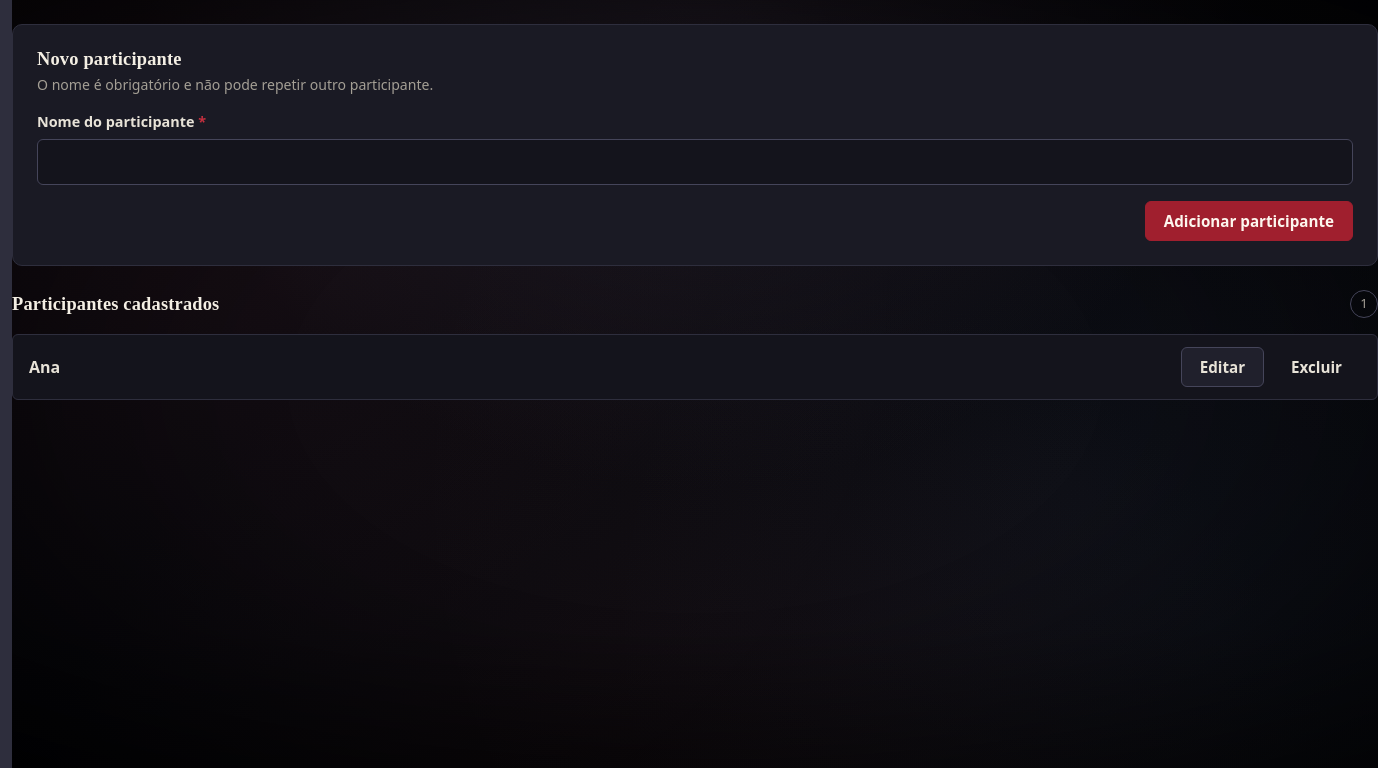
Test: ParticipantsPage (integração) › bloqueia nome duplicado com mensagem explicativa
Expected: the text "Ana" is shown, 29,355 -> 60,379
In the field labelled "Nome do participante *": (695, 162) 37,139 -> 1353,185, type "ana"
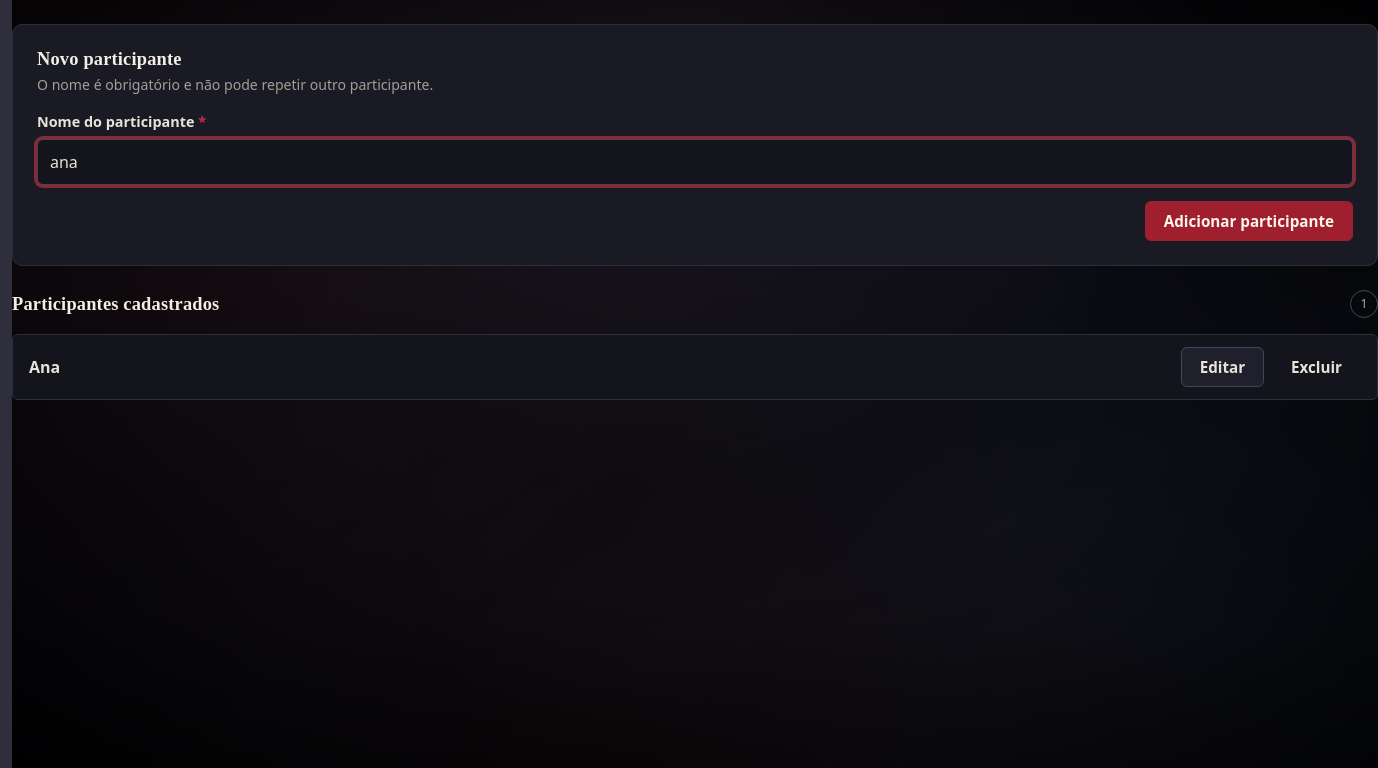
Click the button "Adicionar participante": click(1249, 221) 1145,201 -> 1353,241
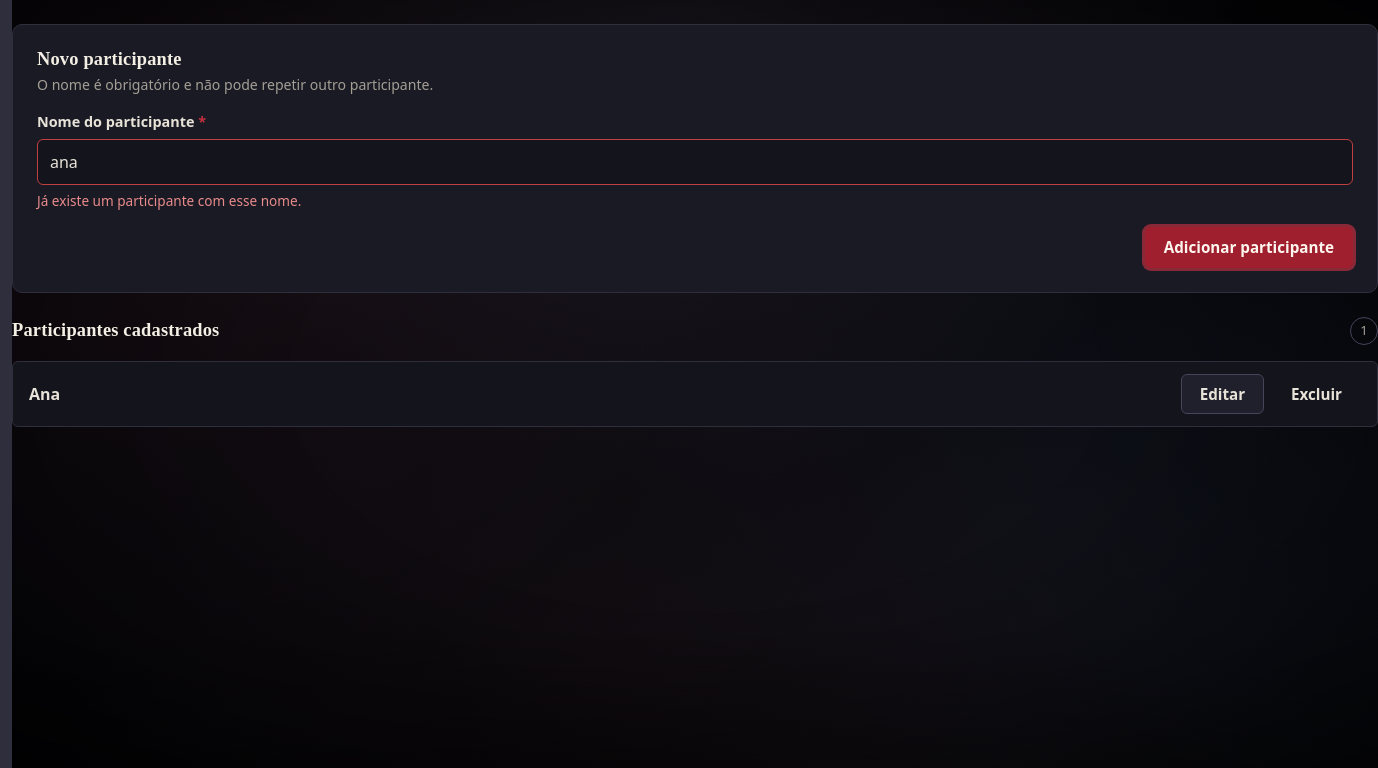
Expected: the text "Já existe um participante com esse nome." is shown, 37,191 -> 301,210
